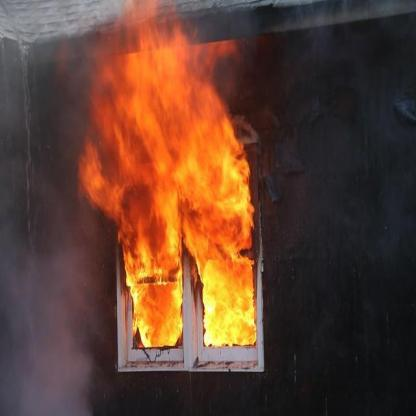fire: (73, 14, 270, 359)
